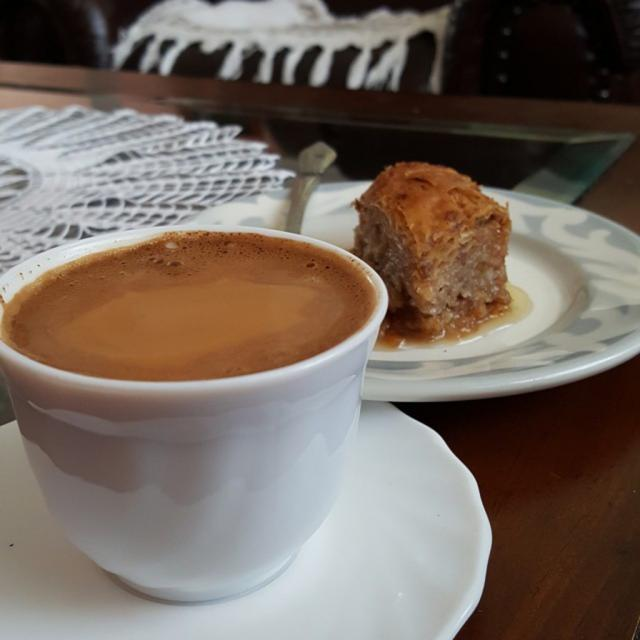Coffee: (0, 205, 402, 607)
Tea: (0, 233, 381, 381)
